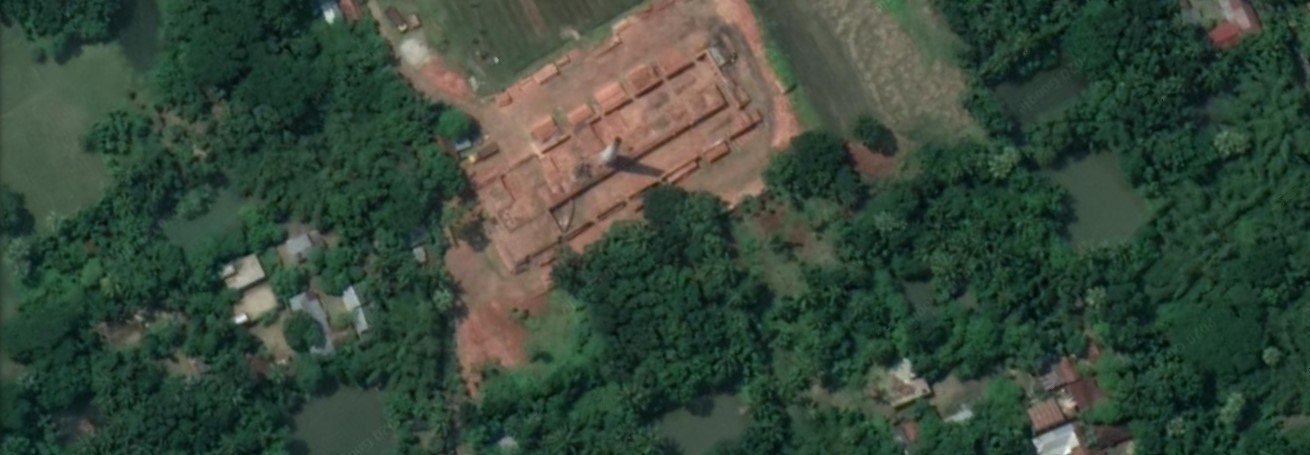kiln: (481, 73, 771, 188)
